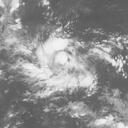cyclone: (34, 34, 97, 94)
